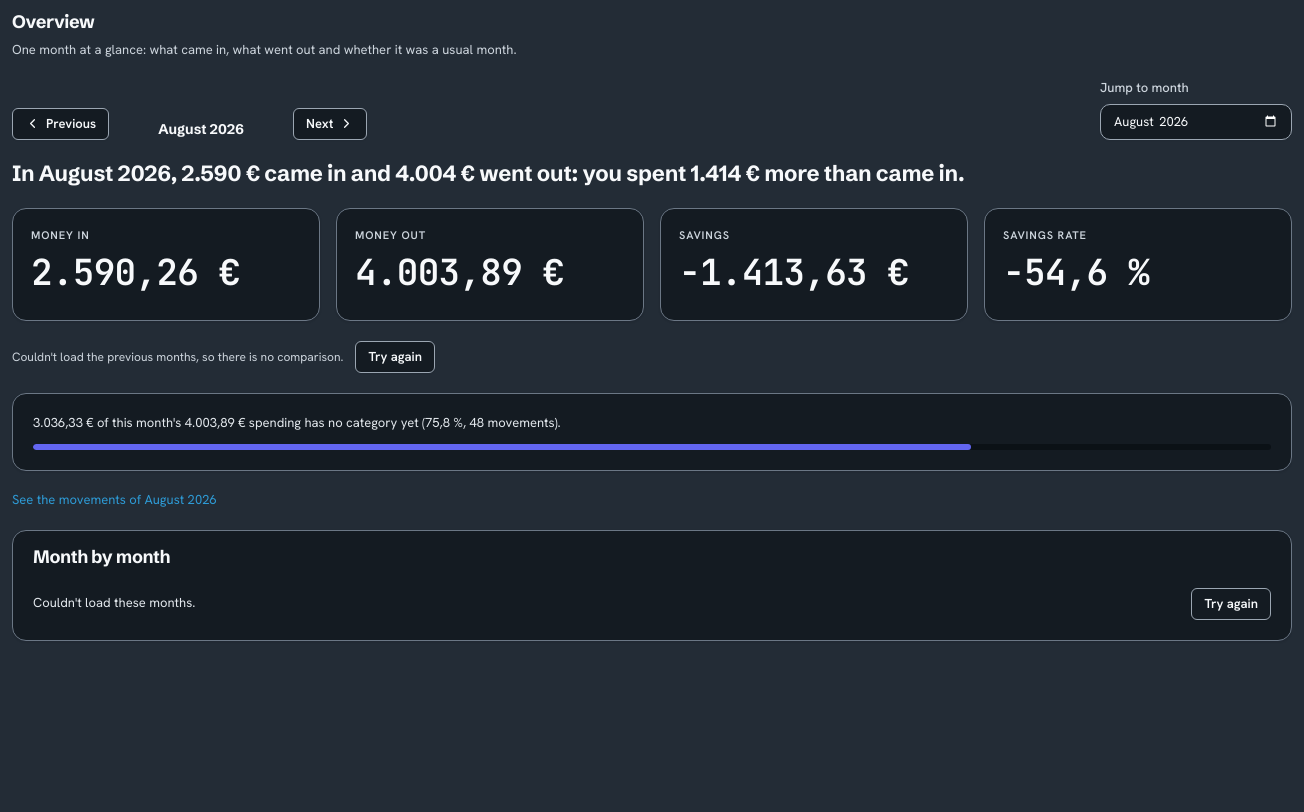
Test: OverviewView › failures (R13, R14) › a failed previous month keeps the month and says there is no comparison
Click the button with test id "overview-retry-comparison": coordinates (395, 357) [355,341,435,373]
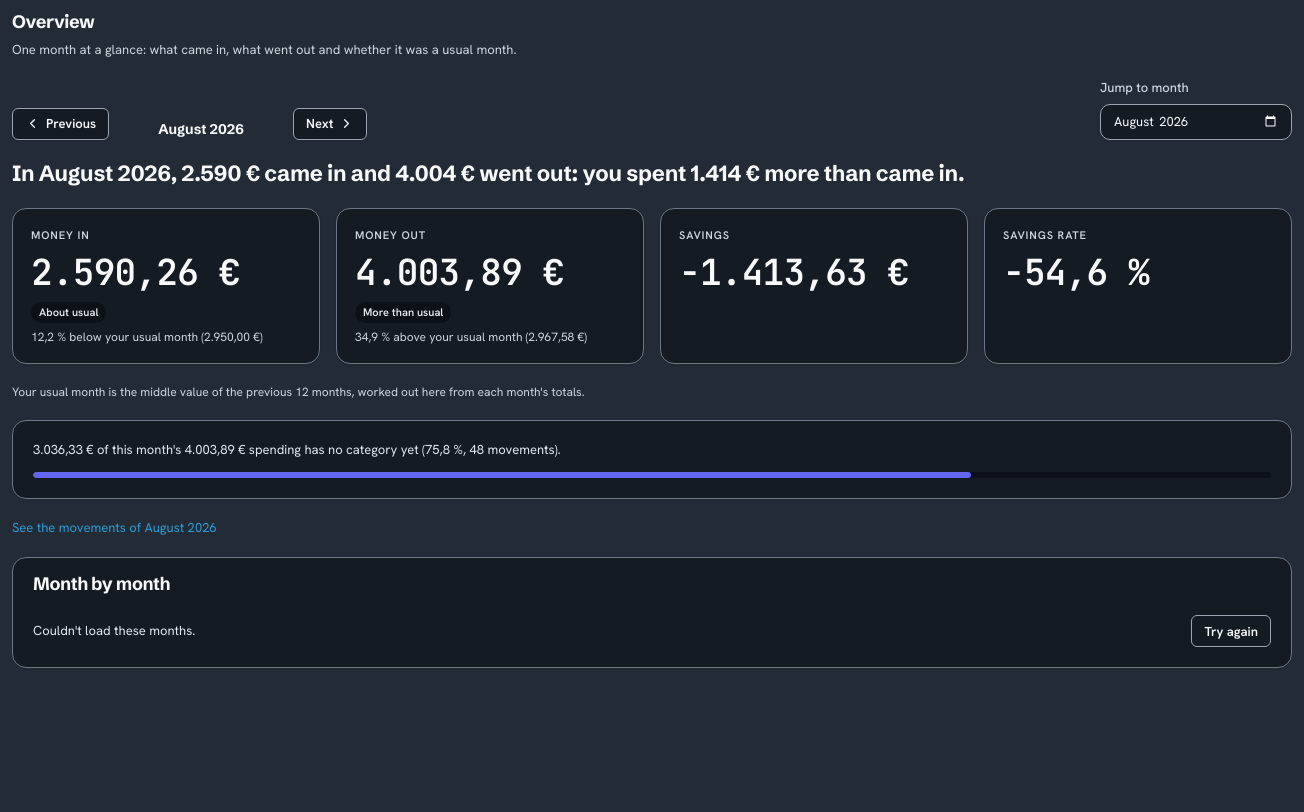
expect the number of elements with test id "overview-usual" is 2: met, box [31,302,301,345]; [355,302,625,345]
